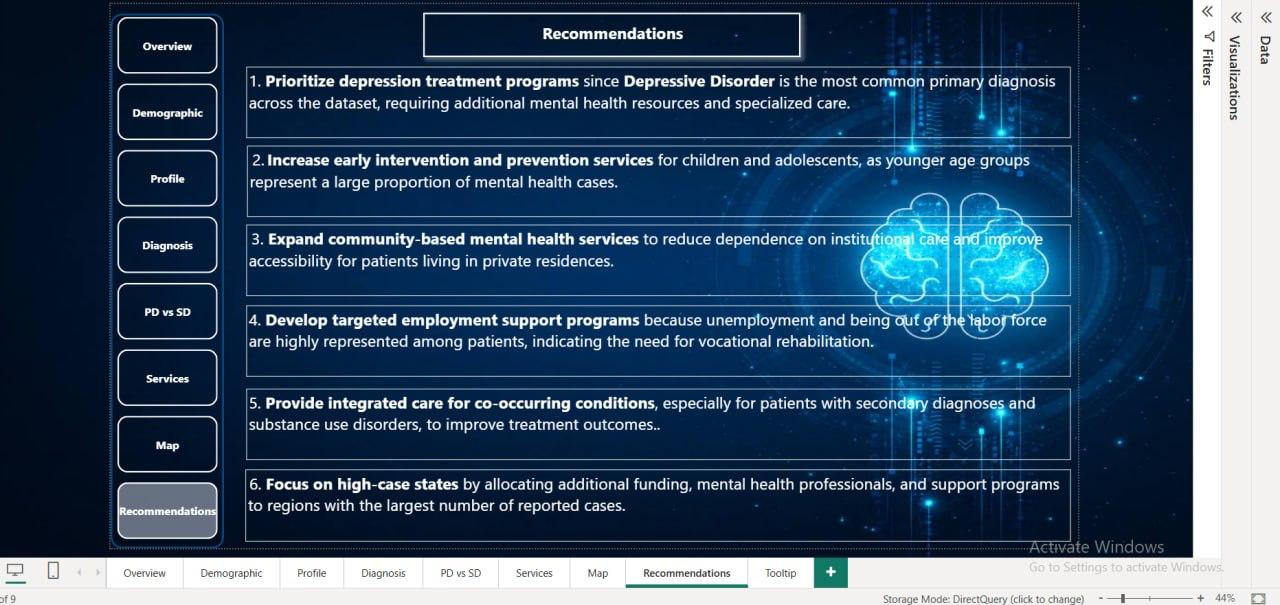

The dashboard page shown, as its layout file describes it:
{"tool":"powerbi","page":{"name":"Recommendations","canvas":[1750,960],"ordinal":4},"visuals":[{"type":"textbox","box":[288.6,14.7,647.3,125.5],"z":0},{"type":"pageNavigator","box":[19.6,57.1,234.8,842.9],"z":1000},{"type":"shape","box":[1.6,14.7,270.7,931],"z":2000},{"type":"textbox","box":[288.6,163,1403.8,122.3],"z":3000},{"type":"textbox","box":[288.6,308.2,1403.8,128.8],"z":3001},{"type":"textbox","box":[288.6,454.9,1403.8,123.9],"z":3002},{"type":"textbox","box":[287,595.1,1403.8,172.8],"z":3003},{"type":"textbox","box":[288.6,779.4,1403.8,150],"z":3004}]}

Visuals, with their boxes on the page's 1750x960 design canvas (x1, y1, x2, y2). These are canvas units, not pixel positions in the 1280x605 screenshot, which may show the page scaled, cropped or inside an application window:
textbox: rect(289, 15, 936, 140)
pageNavigator: rect(20, 57, 254, 900)
shape: rect(2, 15, 272, 946)
textbox: rect(289, 163, 1692, 285)
textbox: rect(289, 308, 1692, 437)
textbox: rect(289, 455, 1692, 579)
textbox: rect(287, 595, 1691, 768)
textbox: rect(289, 779, 1692, 929)
